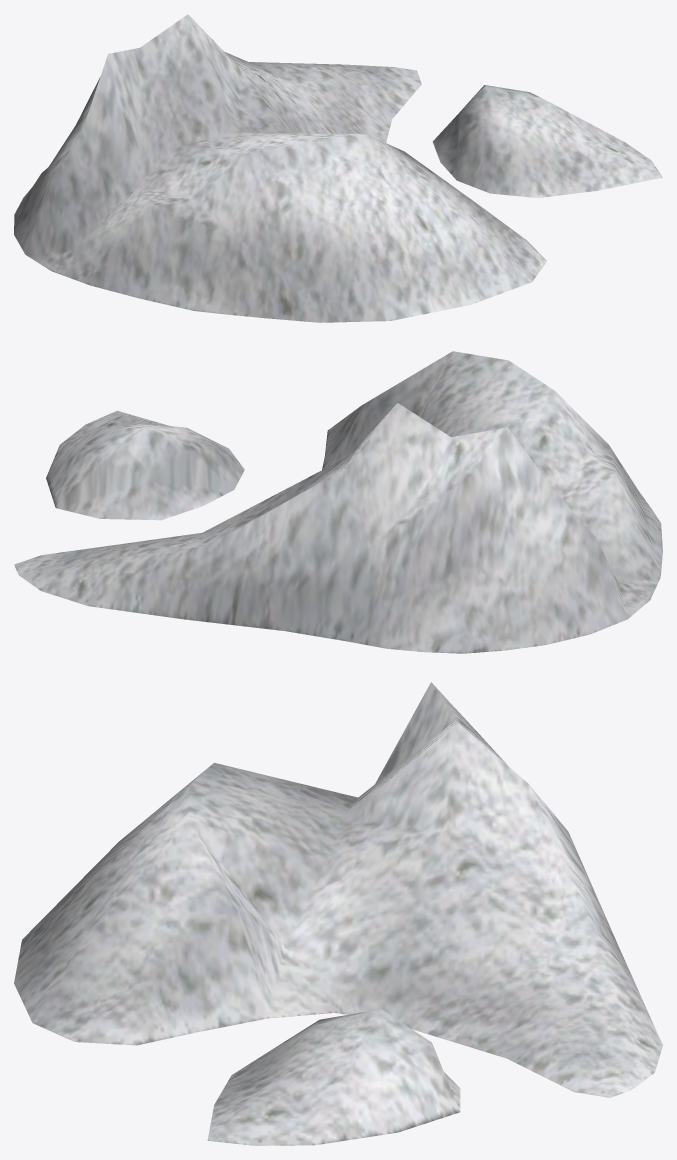
The model's file is snow02a.glb.
3 renders of one model, top to bottom at view 1: azimuth 30°, elevation 25°; view 2: azimuth 150°, elevation 25°; view 3: azimuth 270°, elevation 25°, orthographic. The views are drawn at different scales.
Parts seen in each view (by area): view 1: snow02a; view 2: snow02a; view 3: snow02a.
Part boxes in pixels (x1=…): snow02a: x1=14, y1=14, x2=662, y2=322; snow02a: x1=14, y1=351, x2=662, y2=653; snow02a: x1=14, y1=682, x2=662, y2=1145.
Bounding box in the file's own units: 6.63 × 1.96 × 5.6.
Materials: 1 (1 with a texture image).
